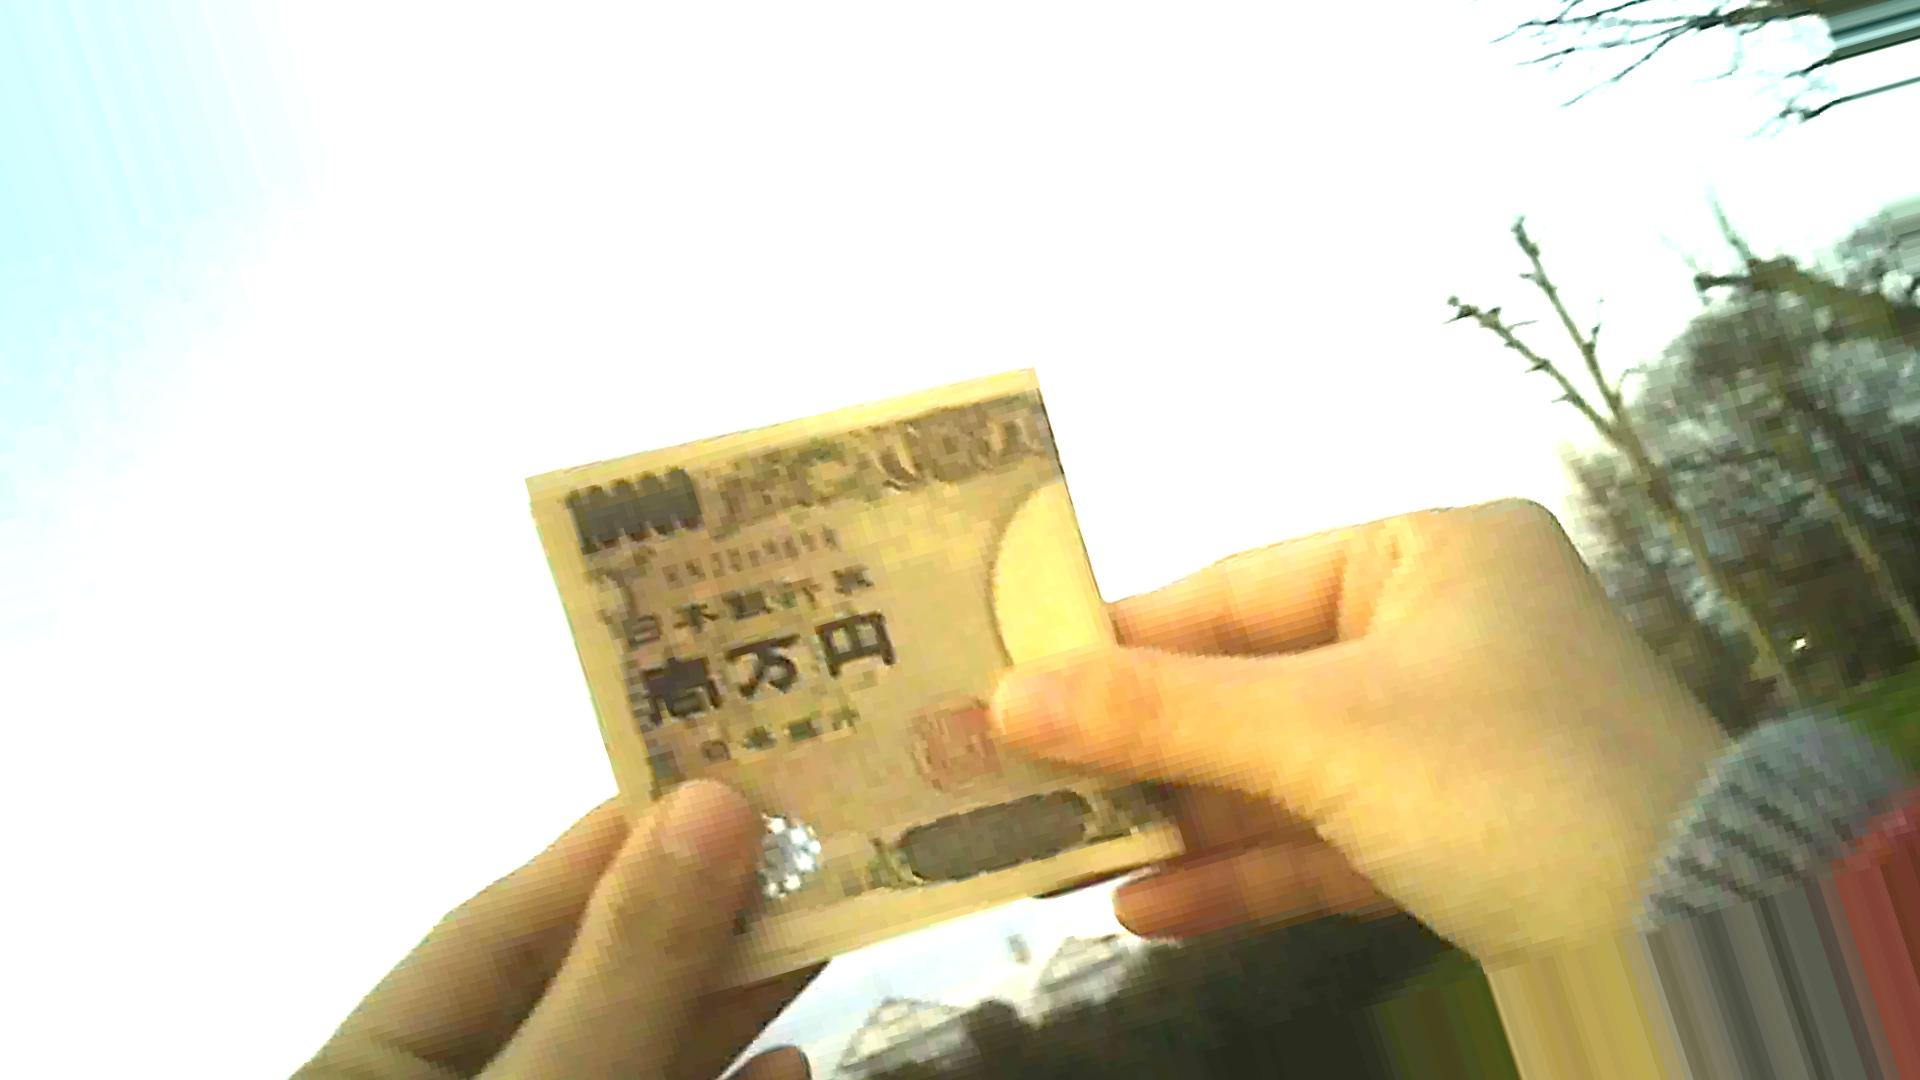10,000 Yen: (500, 369, 1232, 942)
